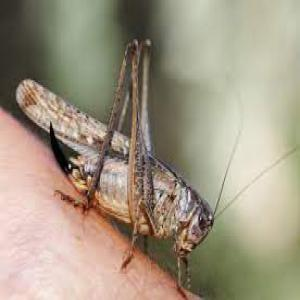locust: (26, 39, 227, 267)
